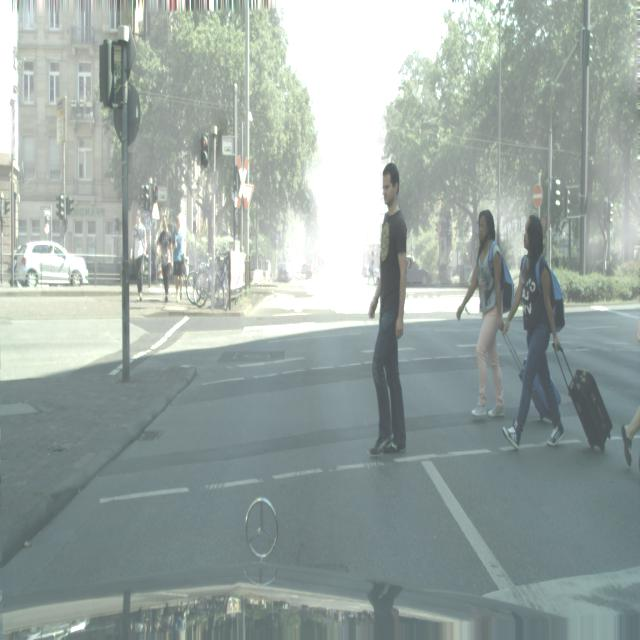car: (207, 251, 232, 311), (186, 252, 212, 306)
person: (502, 213, 565, 449), (368, 164, 408, 456), (456, 209, 511, 419), (621, 318, 640, 468), (156, 216, 173, 304), (131, 211, 146, 301), (172, 215, 185, 299)
truck: (12, 240, 88, 288), (406, 258, 432, 286), (277, 261, 293, 281), (304, 264, 313, 279)
